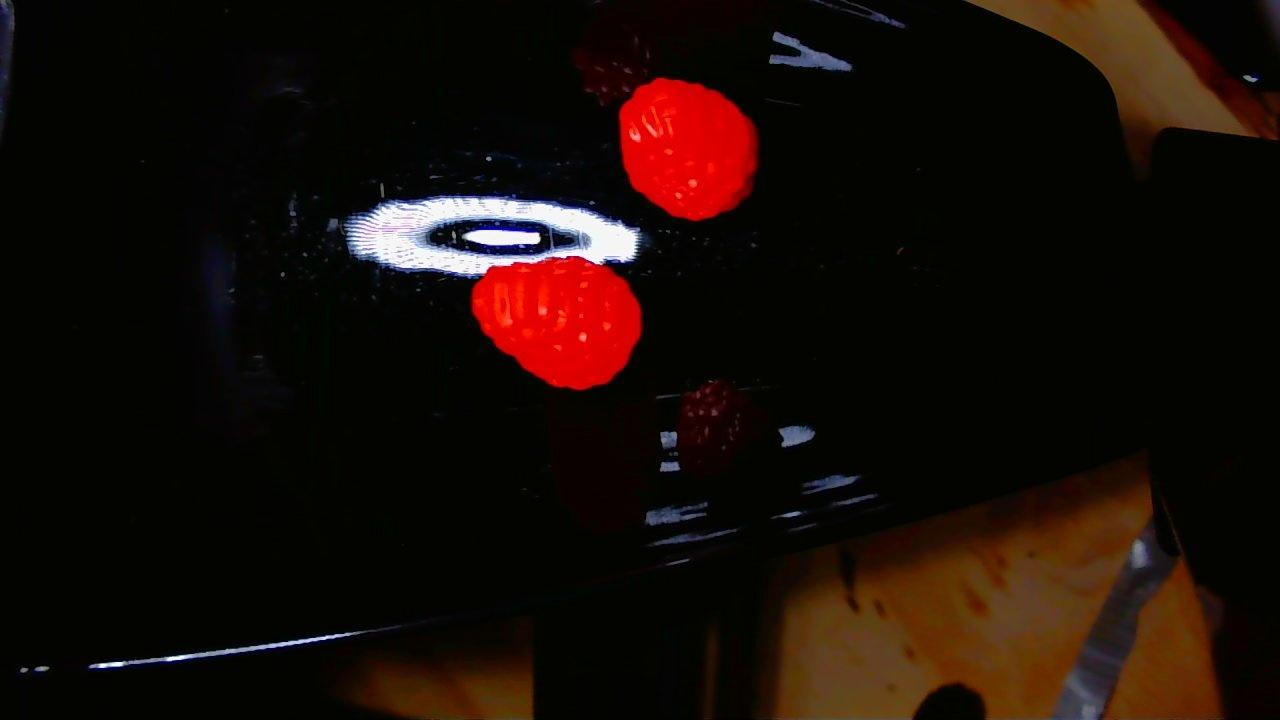berry: (472, 258, 640, 389), (618, 78, 757, 220)
